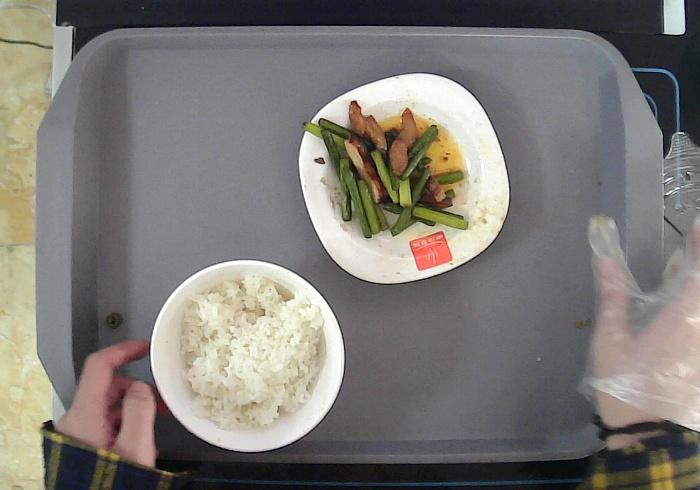SHKJ-Bai_Se_Si_Fang_Cai_Die: (296, 71, 511, 286)
SHKJ-Fan_Wan: (147, 257, 348, 455)
